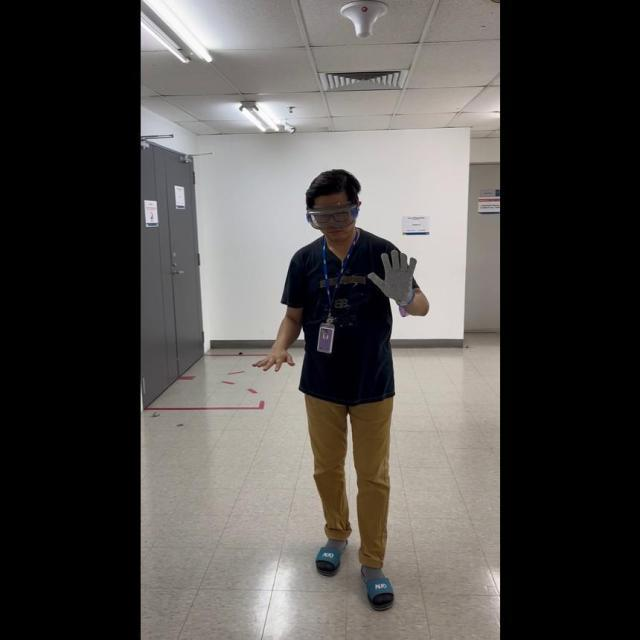bare_hand: (251, 343, 294, 373)
gloved_hand: (366, 246, 420, 304)
